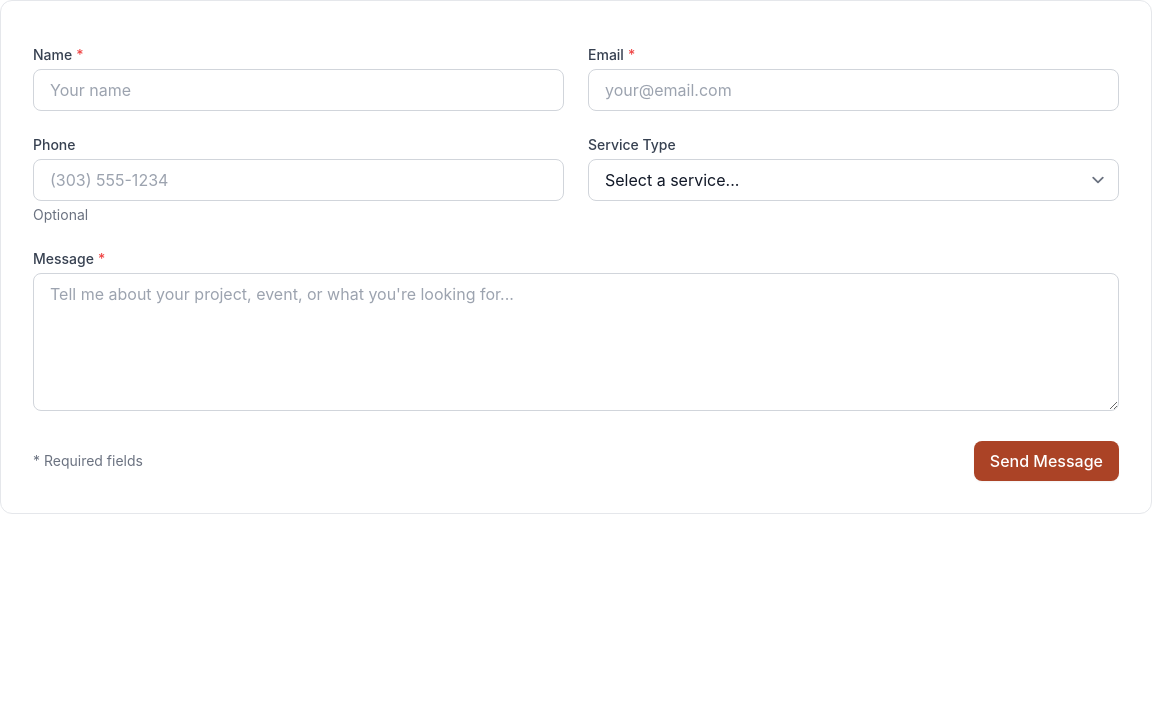
ContactForm › validation messages › shows error for invalid phone number
This screenshot has width=1152, height=720.
Type "John Doe" into the field labelled "Name*" at x=298, y=90, box [33,69,564,111]
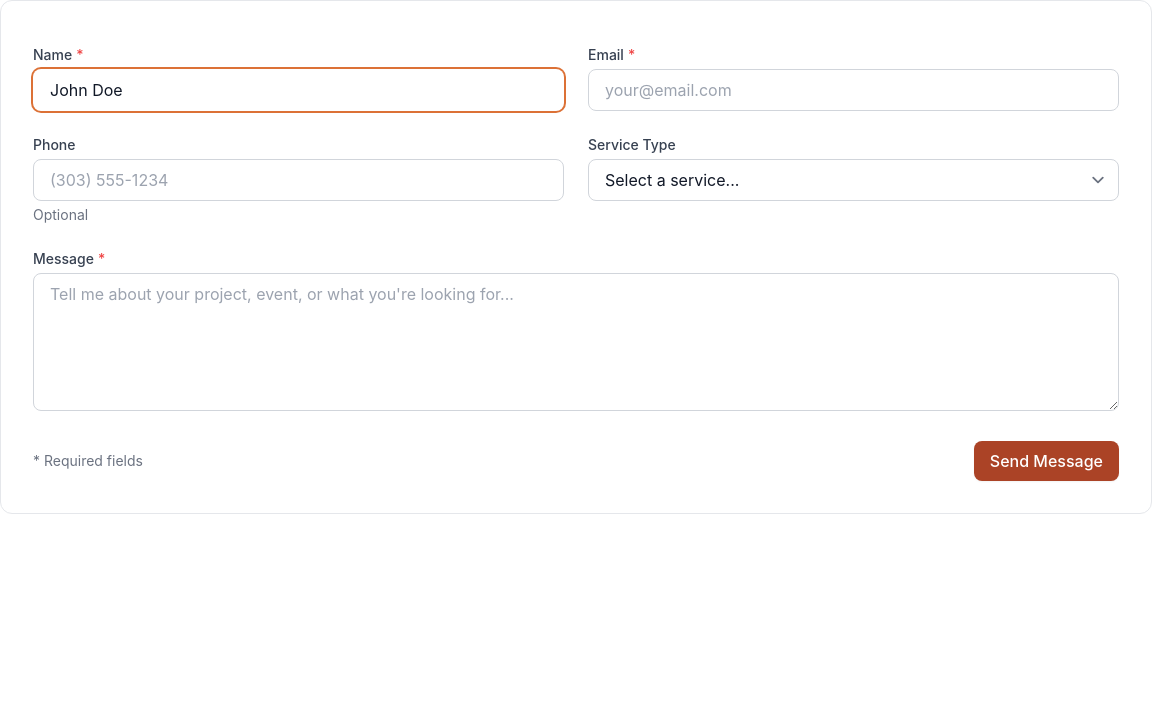
Type "test@example.com" into the field labelled "Email*" at x=854, y=90, box [588,69,1119,111]
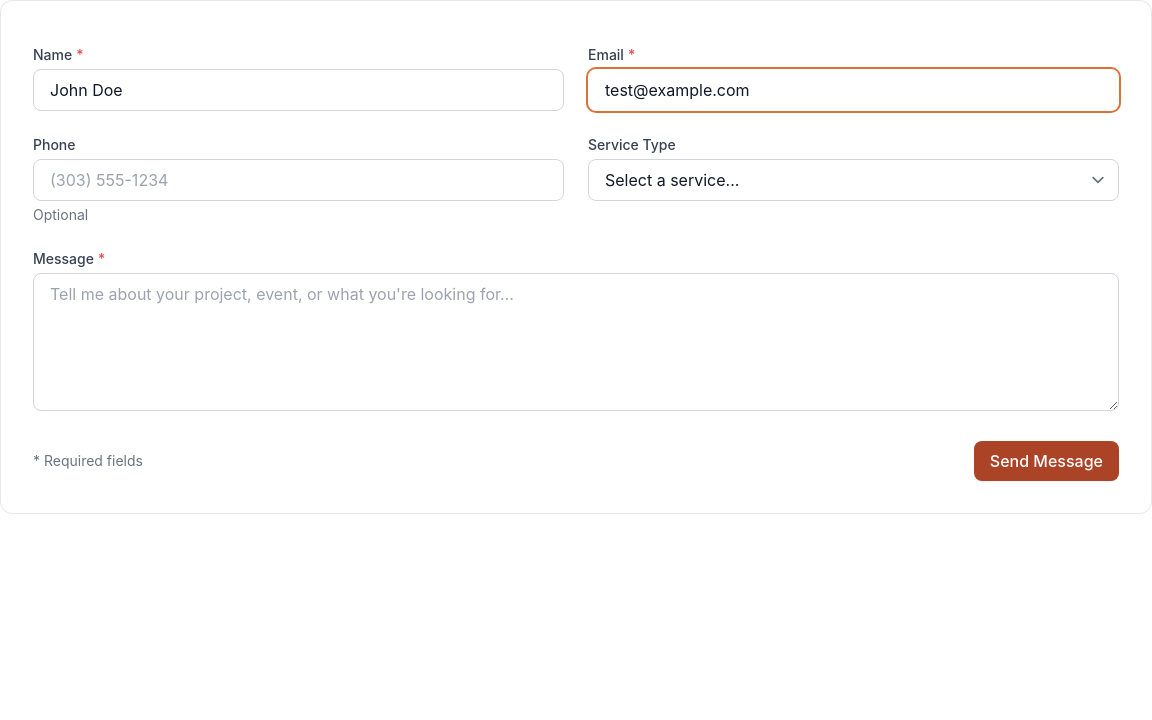
Type "123" into the field labelled "Phone" at x=298, y=180, box [33,159,564,201]
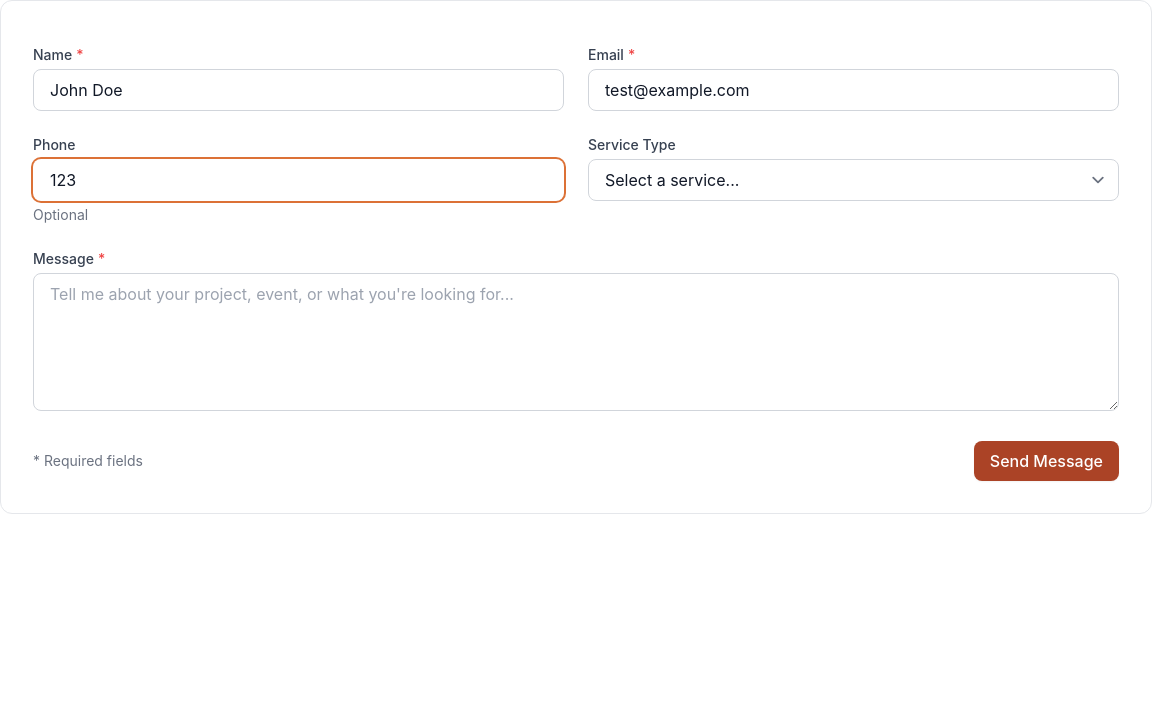
Type "This is a valid test message for the form" into the text box labelled "Message*" at x=576, y=342, box [33,273,1119,411]
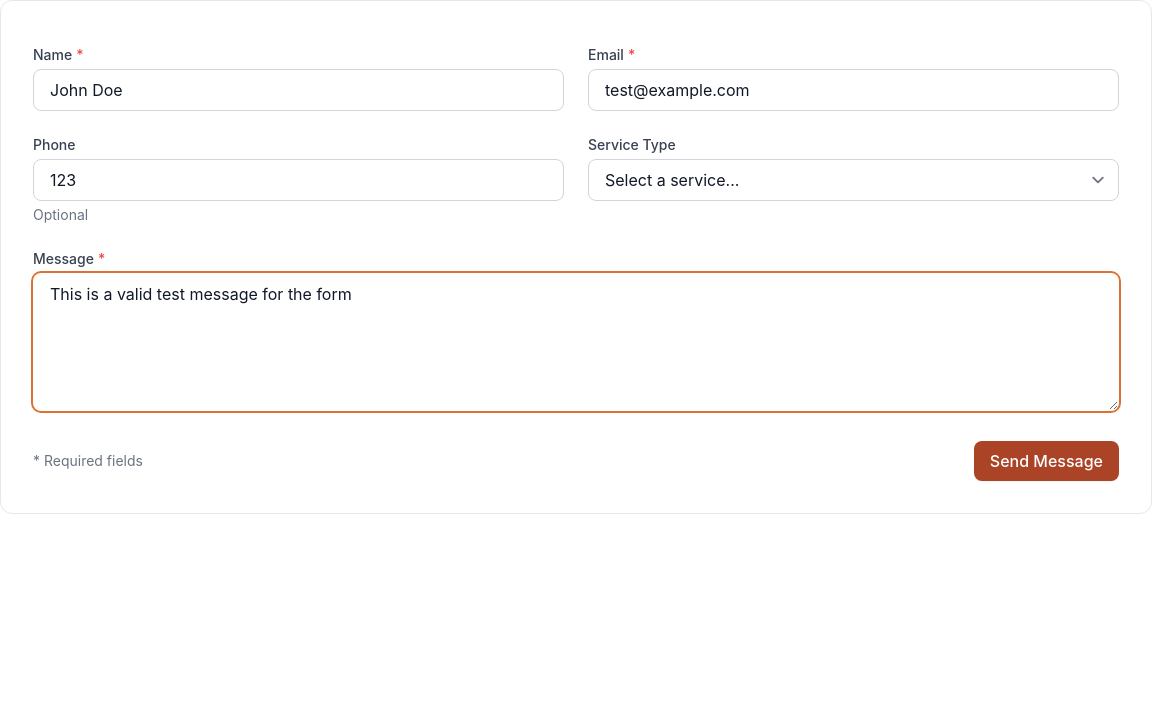
Click the button "Send Message" at x=1046, y=461, box [974,441,1119,481]
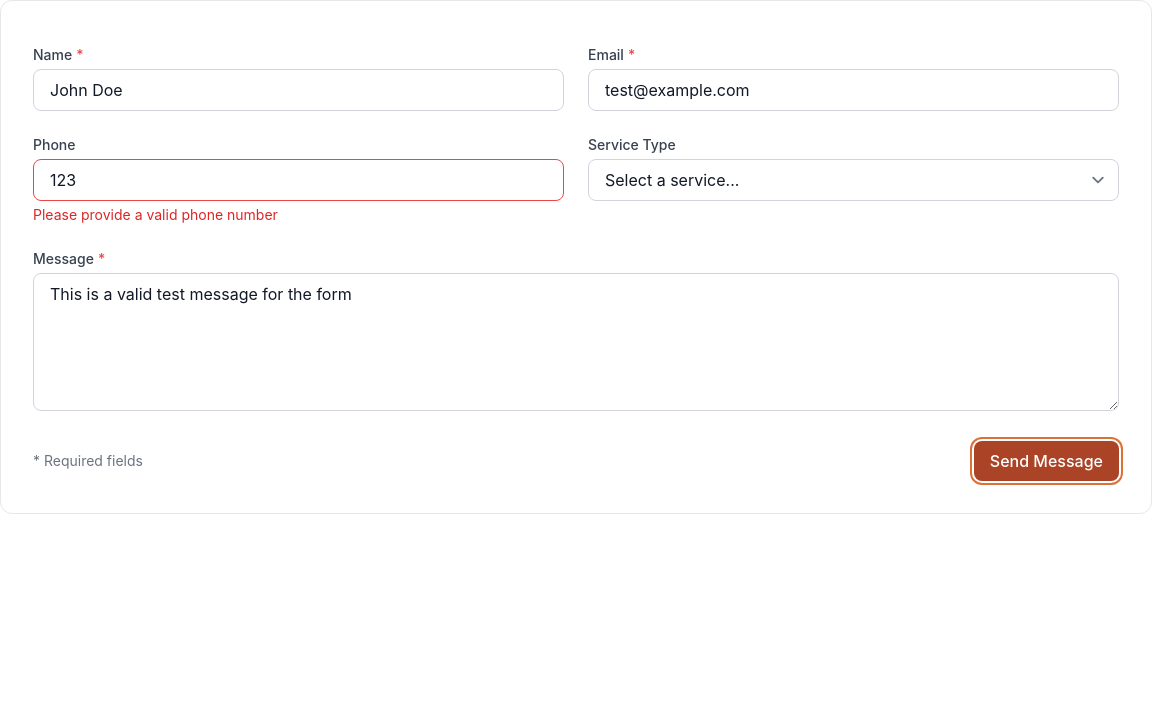
Expected: the text "Please provide a valid phone number" is shown, [33,206,278,223]
